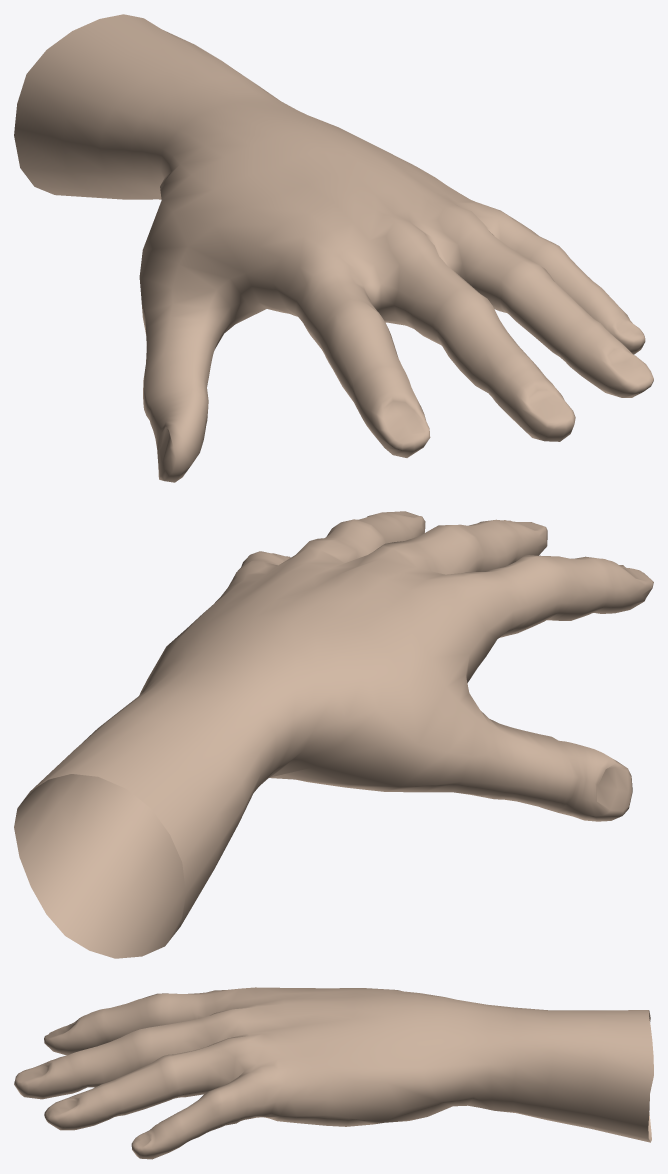
File: left_hand.fbx
3 renders of one model, top to bottom at view 1: azimuth 30°, elevation 25°; view 2: azimuth 150°, elevation 25°; view 3: azimuth 270°, elevation 25°, orthographic. The views are drawn at different scales.
Visible parts, largest first — view 1: left_hand; view 2: left_hand; view 3: left_hand.
Boxes of the visible parts, x1,y1,x2,y2 form: left_hand: [14, 14, 653, 482]; left_hand: [14, 511, 653, 958]; left_hand: [14, 987, 653, 1159].
Bounding box in the file's own units: 136 × 67.48 × 254.
